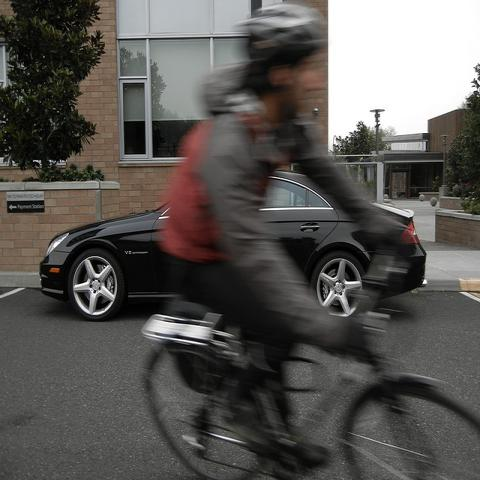car: (37, 170, 426, 321)
